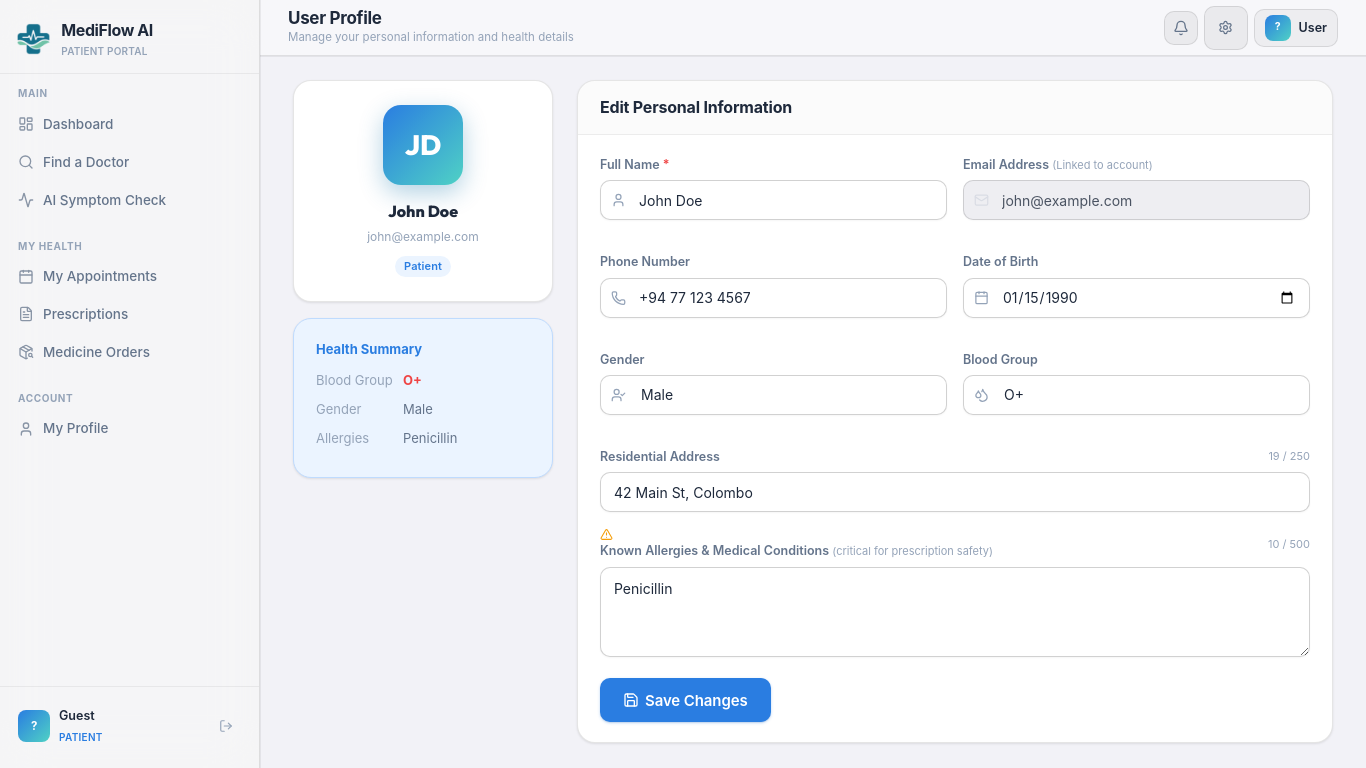
it: Patient Portal Validations › ProfilePage Validations › validates that Date of Birth cannot be in the future
In the date field labelled "Date of Birth": point(1136, 298) top-left (963, 278), bottom-right (1310, 318), type "2099-12-31"
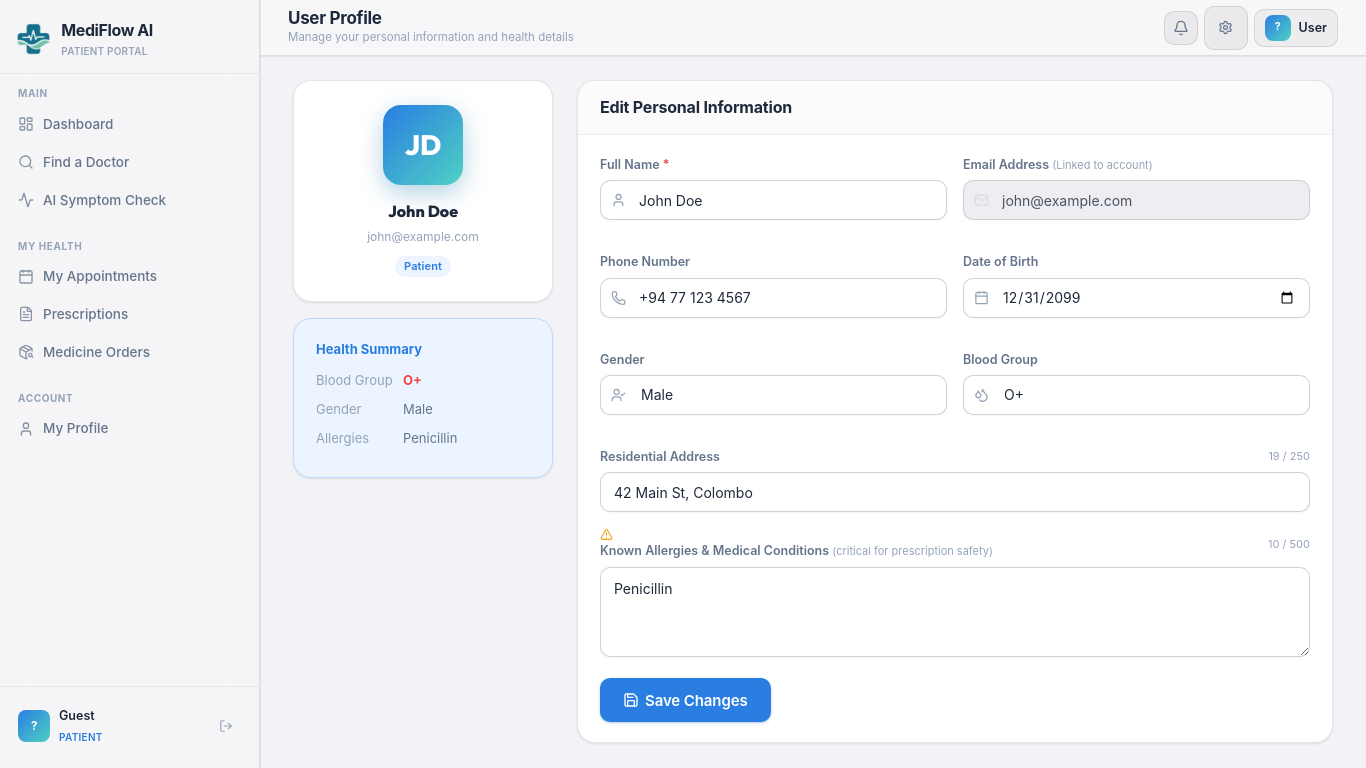
Leave the date field labelled "Date of Birth", box top-left (963, 278), bottom-right (1310, 318)
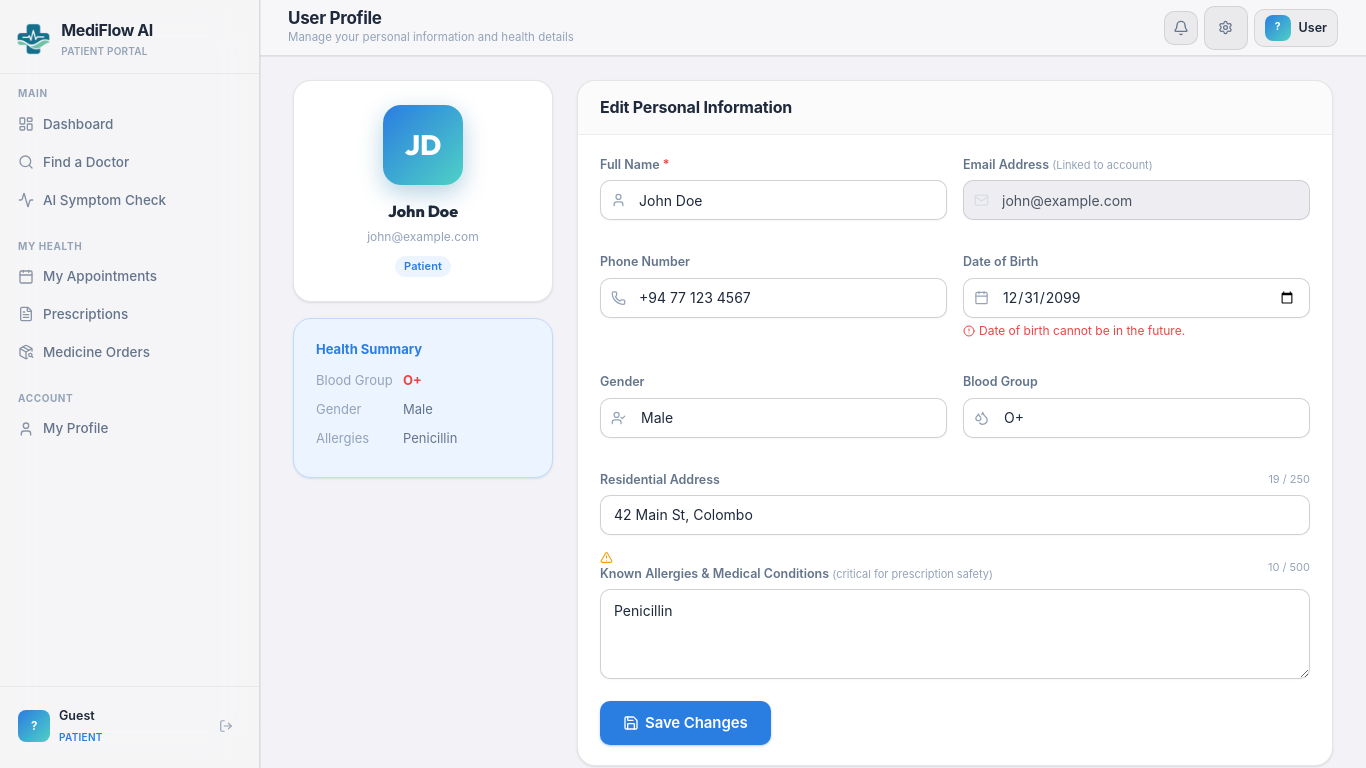
Expected: the text "Date of birth cannot be in the future." is shown, top-left (963, 322), bottom-right (1185, 338)
